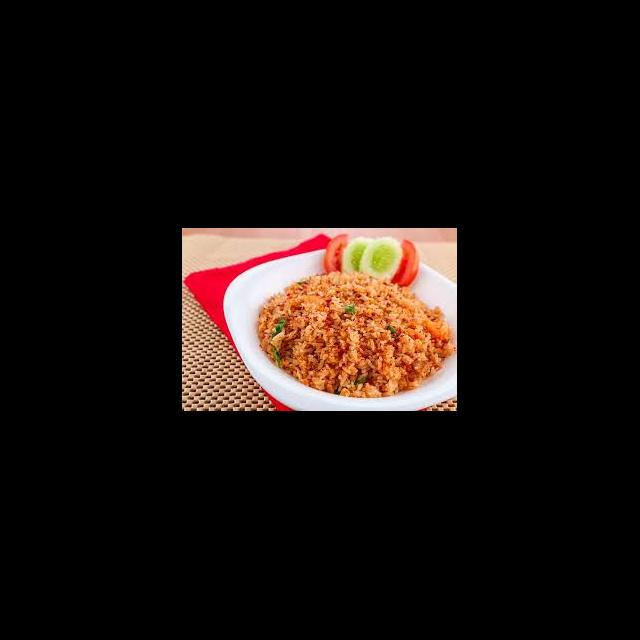food_waste: (302, 294, 421, 376)
